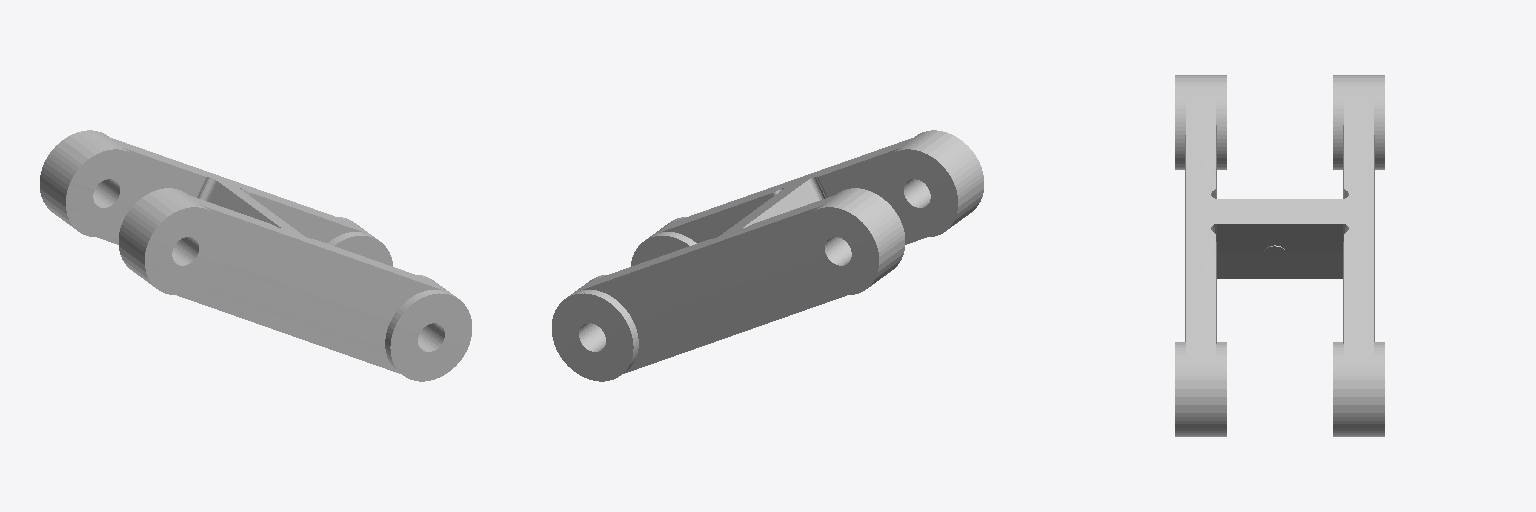
Rendered from gripper_left2.obj.
The picture shows the model from 3 angles: view 1: azimuth 30°, elevation 25°; view 2: azimuth 150°, elevation 25°; view 3: azimuth 270°, elevation 25°; orthographic projection.
Visible parts, largest first — view 1: gripper_left2; view 2: gripper_left2; view 3: gripper_left2.
Boxes of the visible parts, box(x1,y1,x2,y2) form: gripper_left2: box(40, 130, 471, 381); gripper_left2: box(552, 130, 983, 381); gripper_left2: box(1175, 75, 1384, 436).
Bounding box in the file's own units: 0.0359 × 0.0243 × 0.02.